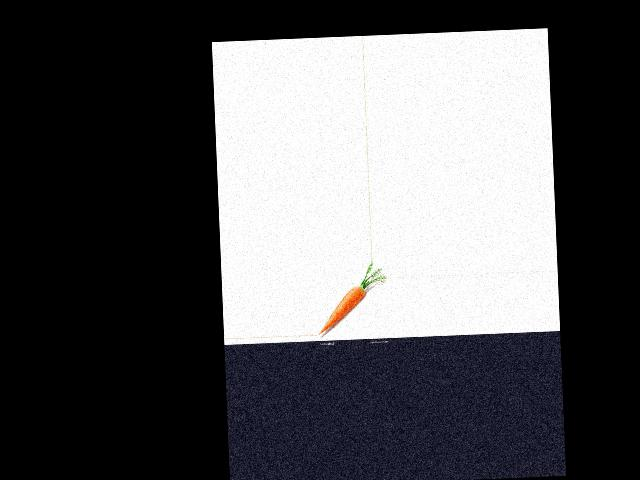carrot: (316, 271, 373, 336)
